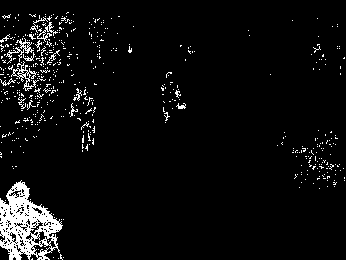person: (6, 180, 65, 260), (70, 86, 98, 153), (159, 70, 186, 124)
